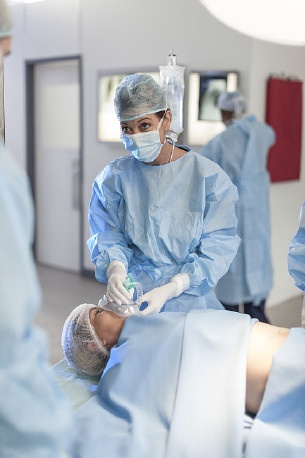Mask: (117, 114, 164, 161)
